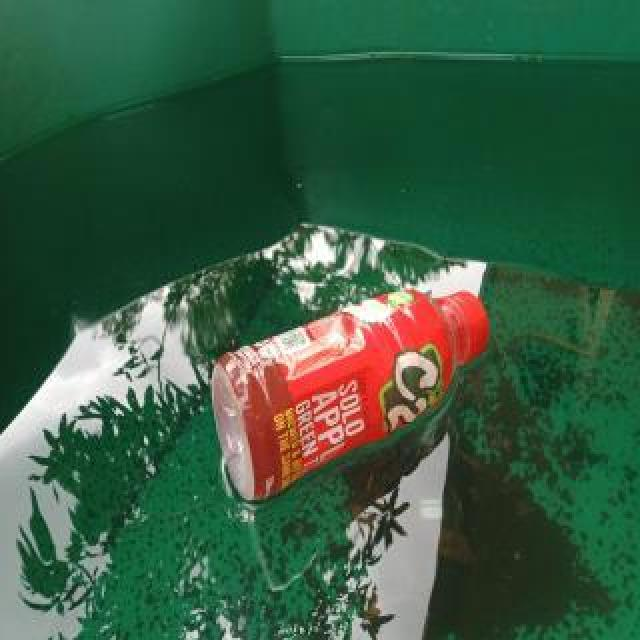bottle: (208, 287, 494, 503)
